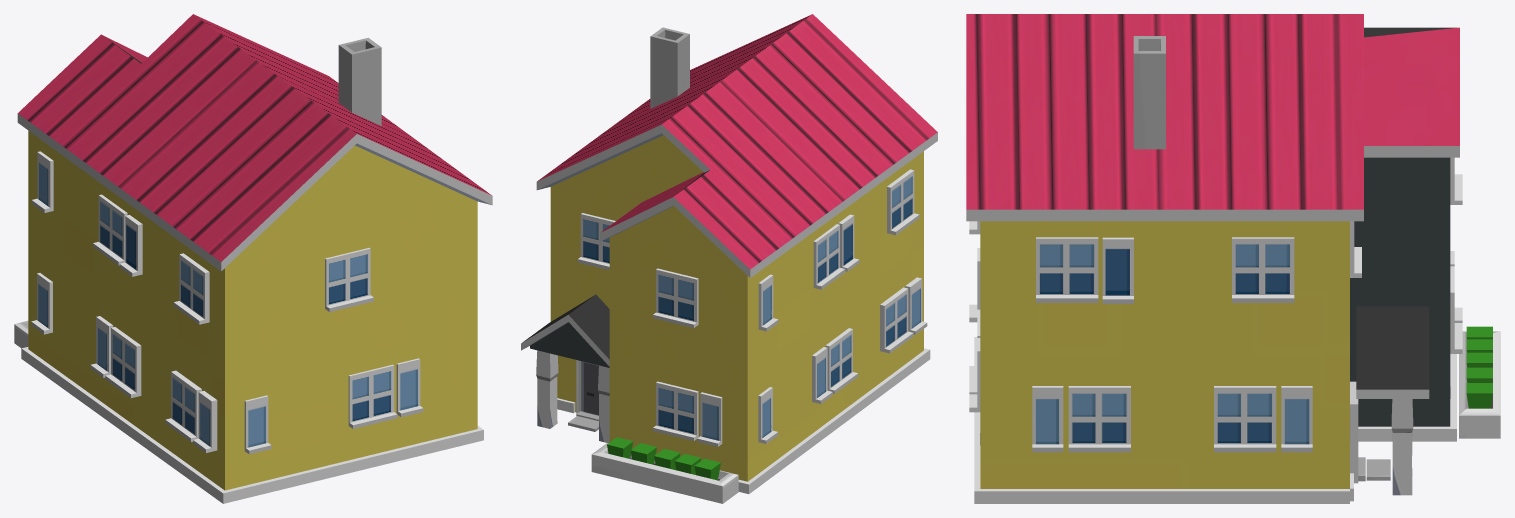
File: house_1.fbx
The picture shows the model from 3 angles, left to right: view 1: azimuth 30°, elevation 25°; view 2: azimuth 150°, elevation 25°; view 3: azimuth 270°, elevation 25°; orthographic projection. The views are drawn at different scales.
Visible parts, largest first — view 1: house_7; view 2: house_7; view 3: house_7.
Part boxes in pixels (<box>): house_7: <box>14,14,492,503</box>; house_7: <box>521,14,937,503</box>; house_7: <box>966,14,1500,503</box>.
Size of the model in its own units: 102 by 127 by 143.
